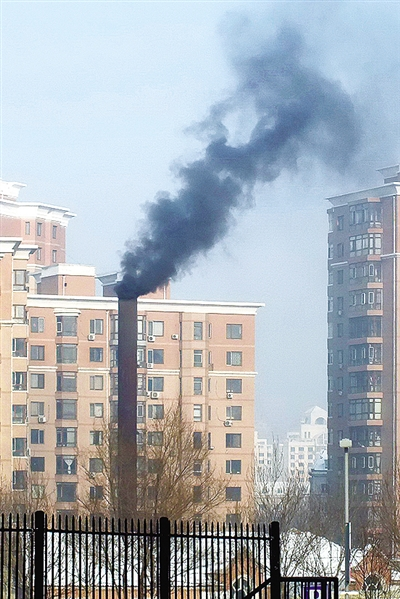dust: (97, 174, 239, 299)
